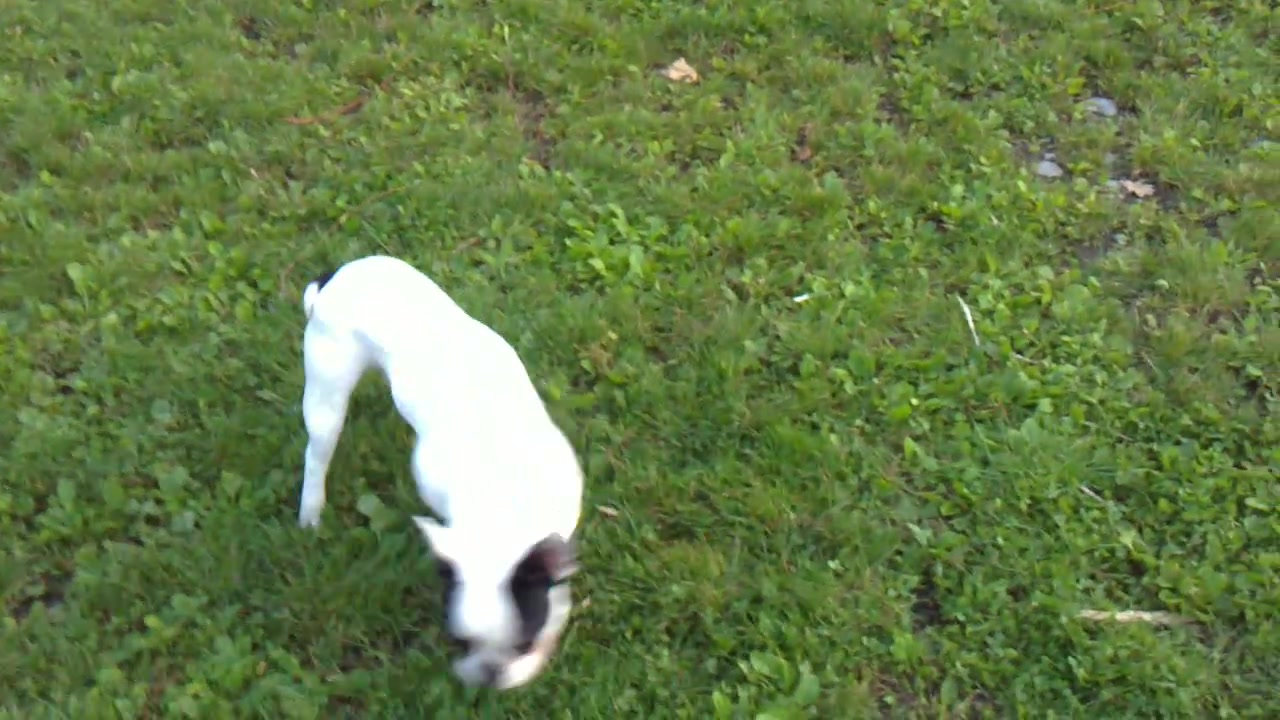dog: (299, 252, 595, 697)
